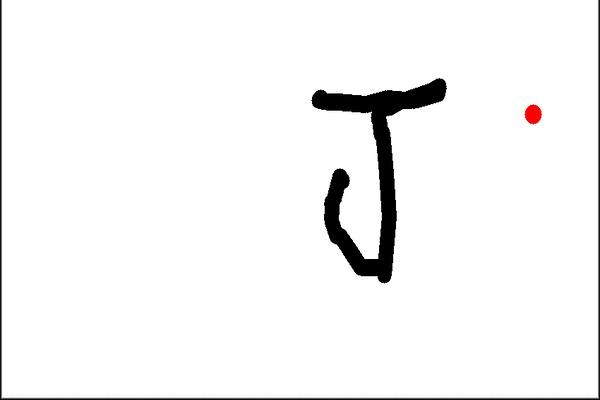J: (300, 76, 451, 286)
